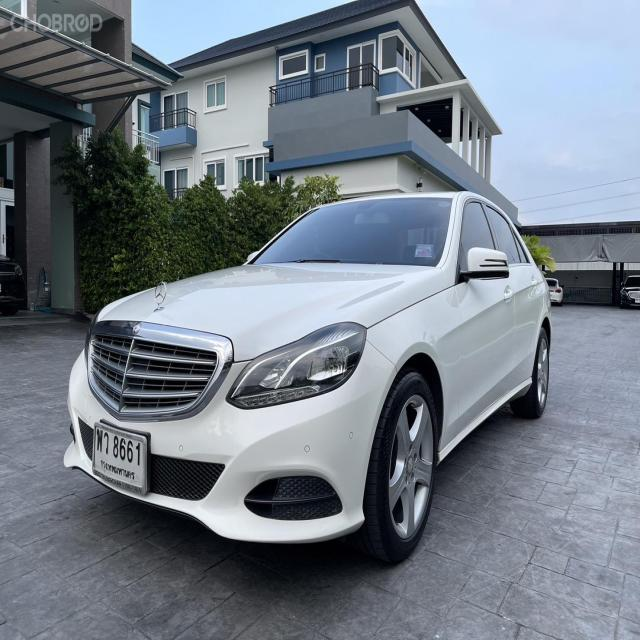license_plate: (94, 416, 148, 496)
